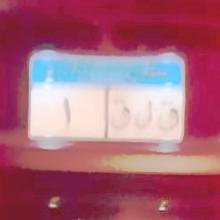1: (59, 95, 79, 127)
laam: (135, 100, 154, 134)
qaaf: (155, 98, 183, 134), (106, 98, 132, 134)
